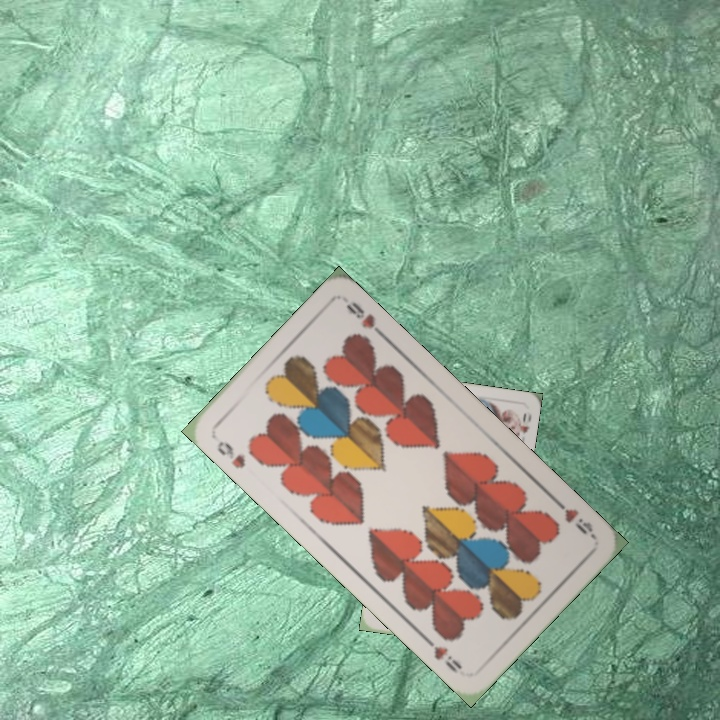H9: (550, 495, 598, 541), (213, 436, 248, 472)
